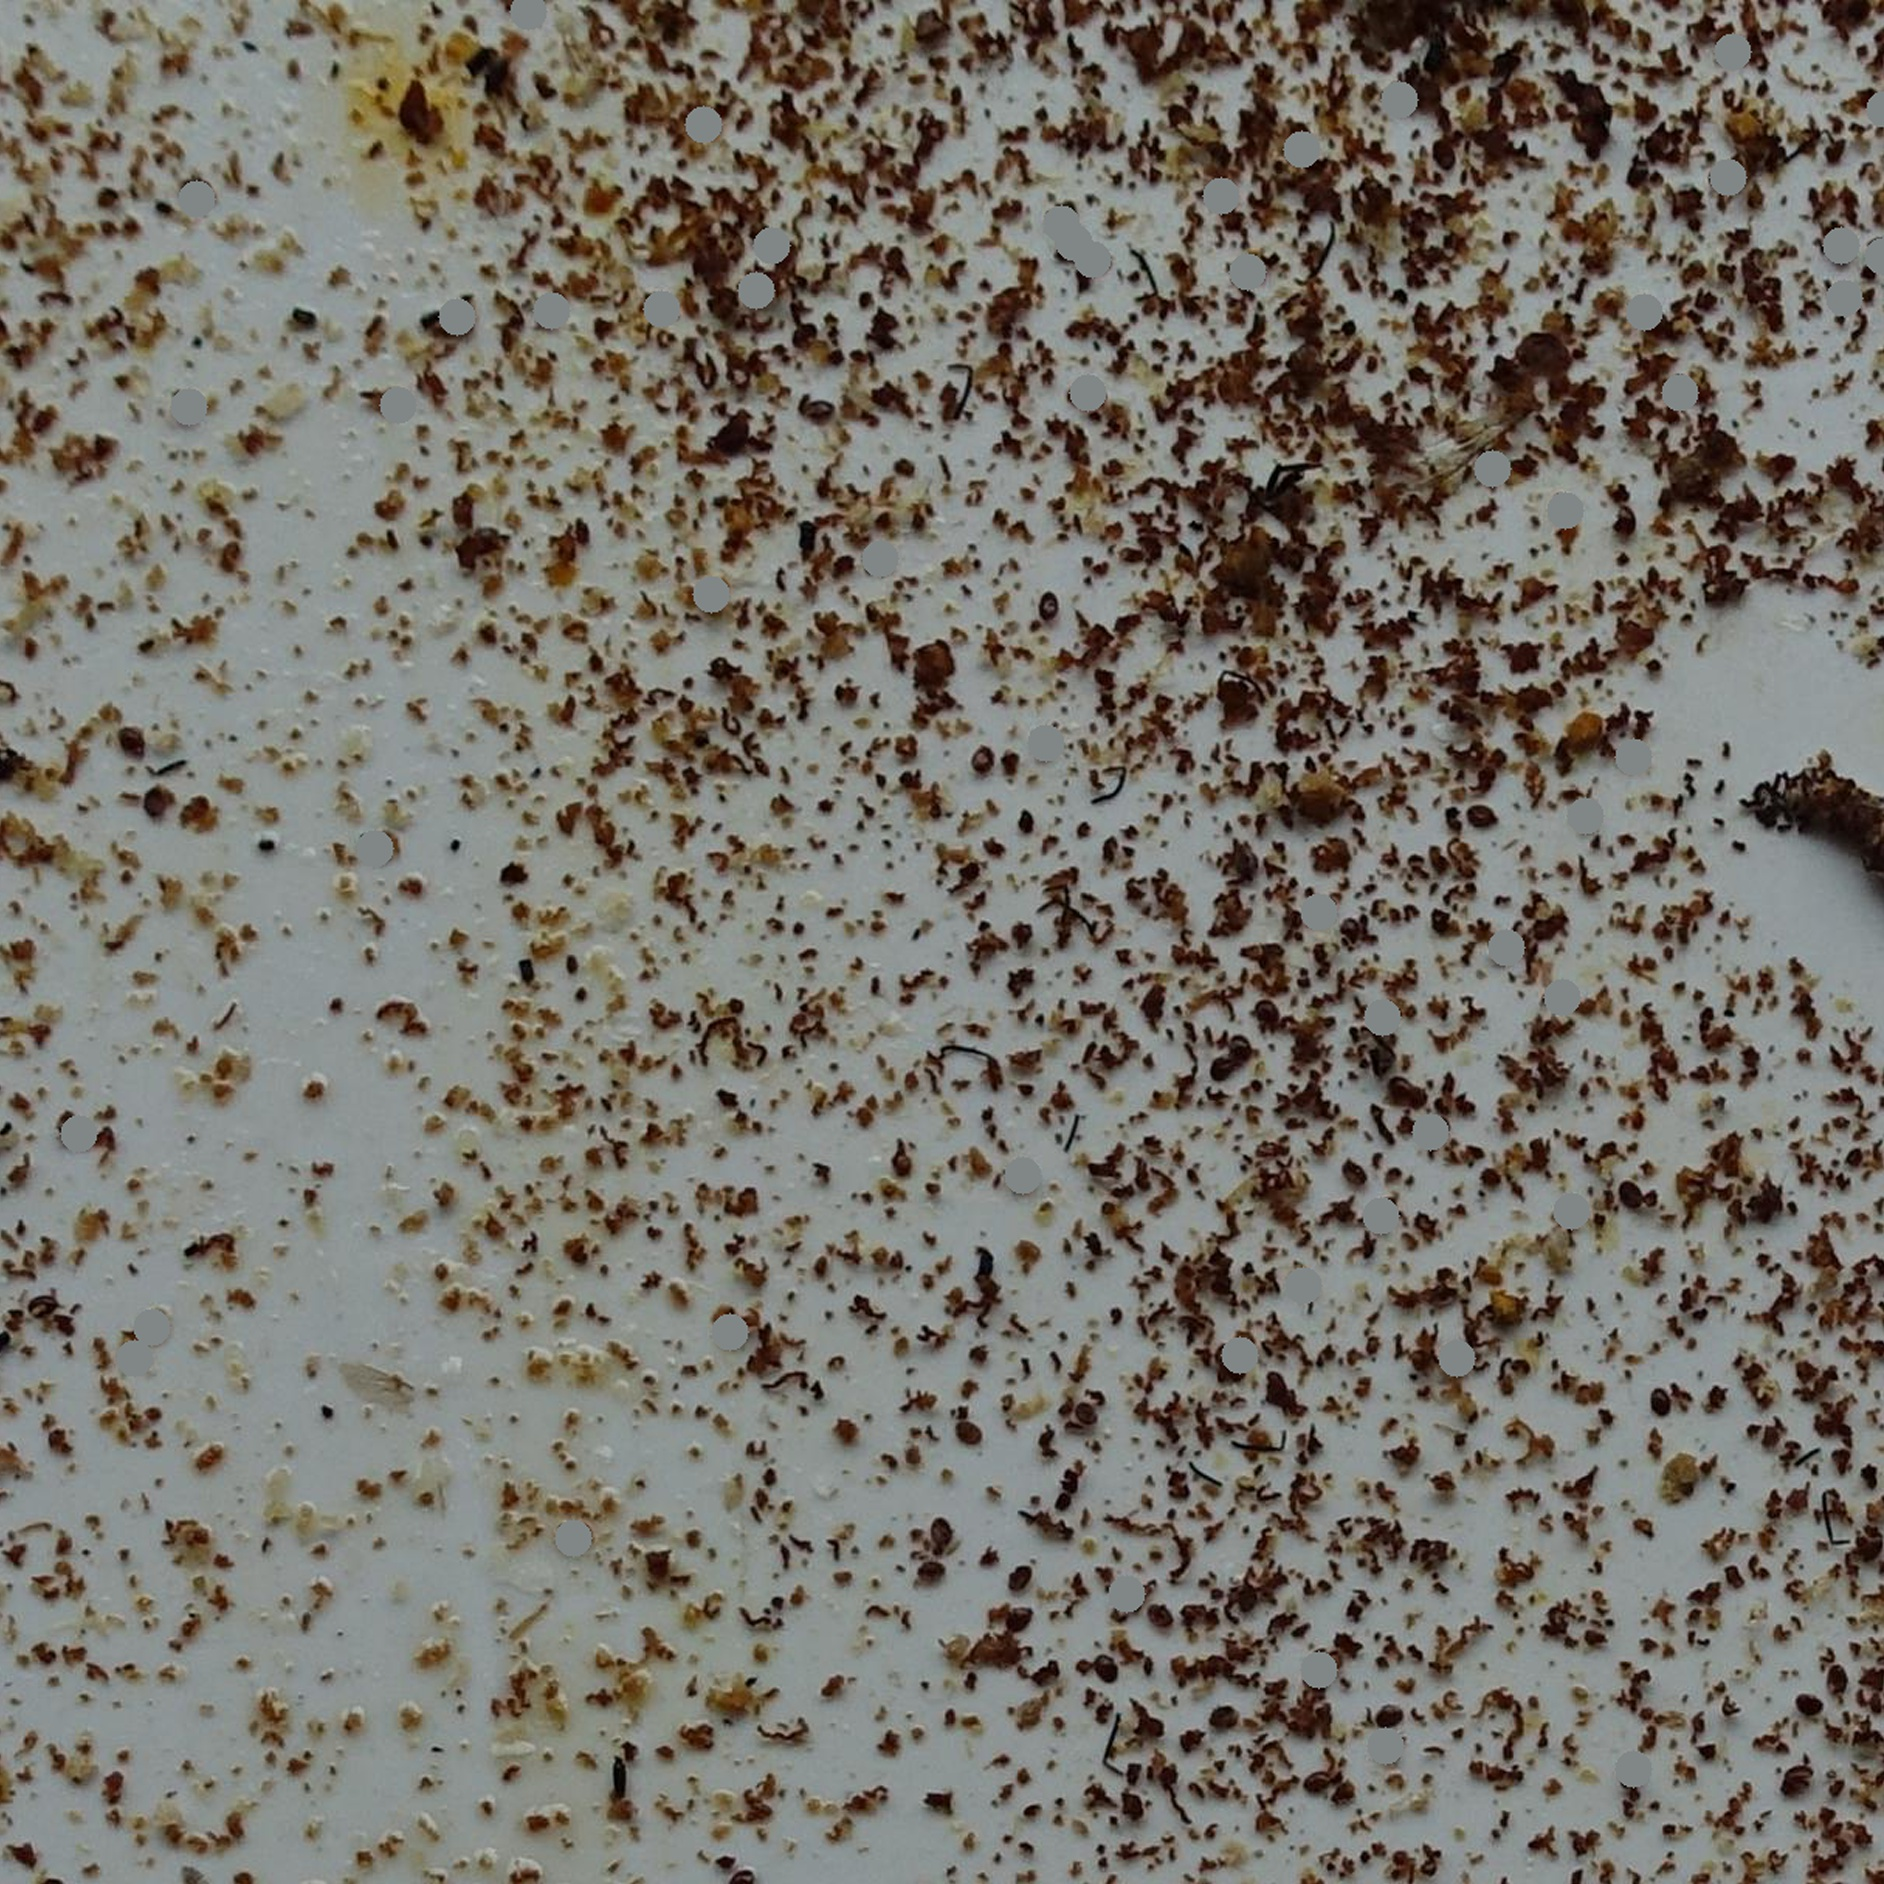Varroa: (116, 732, 145, 761), (1140, 1592, 1170, 1622), (1166, 102, 1196, 129), (1304, 1767, 1332, 1794), (794, 324, 820, 354), (1334, 914, 1363, 940), (1392, 1077, 1422, 1102), (1430, 143, 1458, 169), (1211, 1051, 1239, 1077), (1337, 1159, 1365, 1185), (1075, 1399, 1099, 1429), (918, 1561, 944, 1587), (1782, 1767, 1810, 1791), (1035, 595, 1059, 623), (1625, 166, 1653, 190), (1002, 1606, 1027, 1634), (1798, 1696, 1824, 1720), (1211, 1705, 1235, 1730), (928, 1517, 954, 1541), (1468, 797, 1492, 823), (807, 399, 832, 424), (1009, 1563, 1035, 1587), (145, 792, 169, 816), (971, 745, 994, 771), (1649, 1391, 1672, 1415), (1094, 1656, 1116, 1680), (958, 1422, 982, 1444), (1258, 1002, 1280, 1027), (1622, 1184, 1644, 1208), (1378, 1706, 1401, 1730), (1617, 518, 1630, 531)
